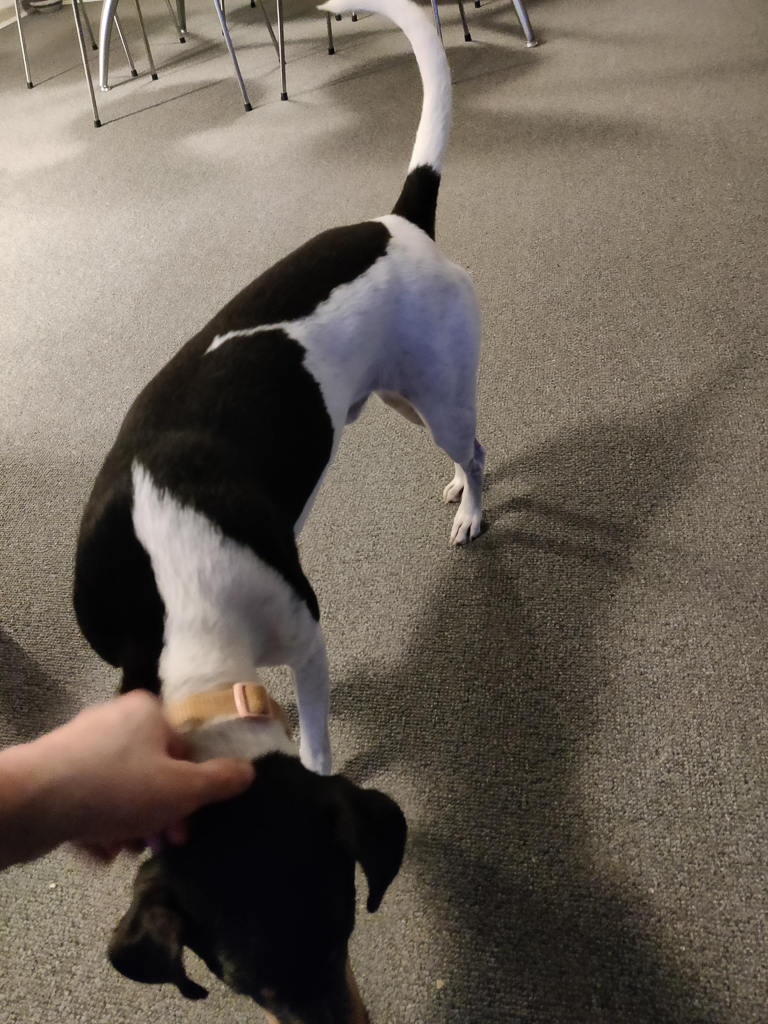Dog: (39, 0, 515, 1024)
Humanoid: (0, 669, 277, 889)
